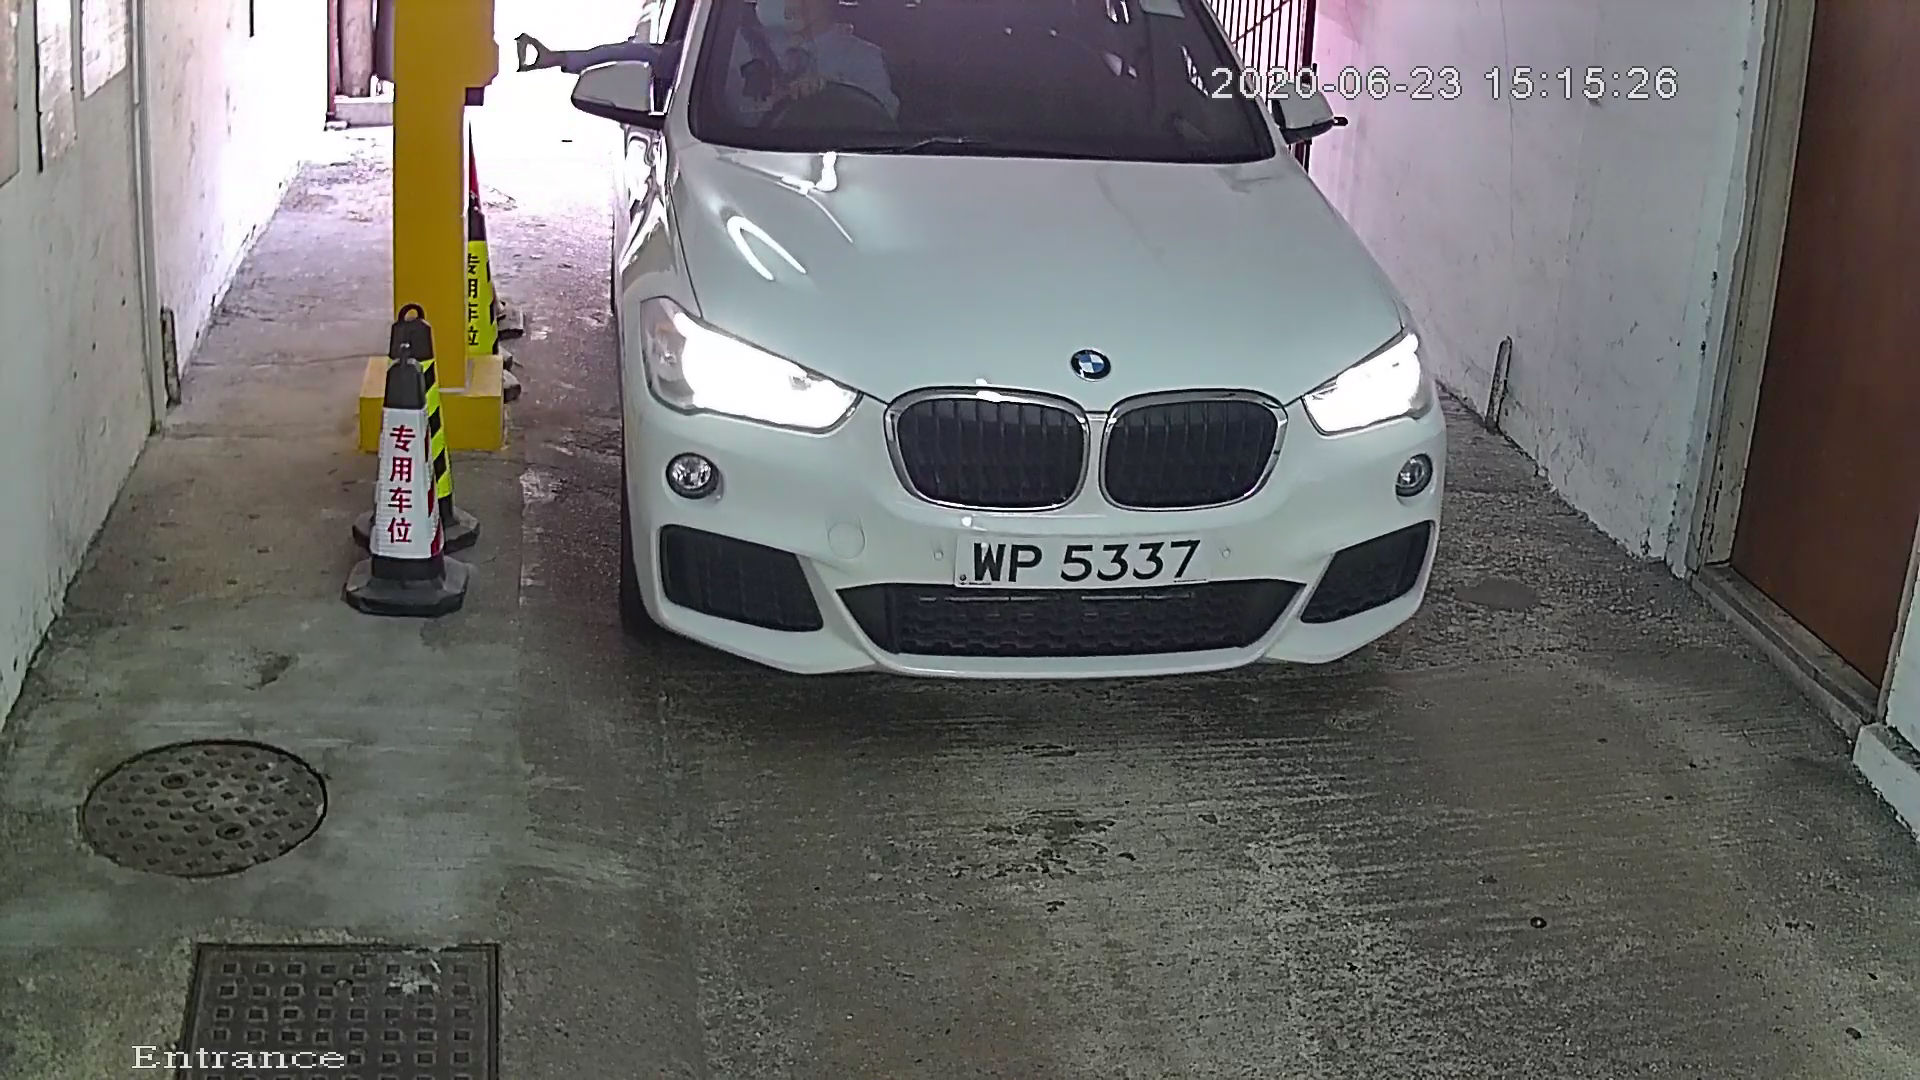privatecar: (549, 1, 1524, 716)
